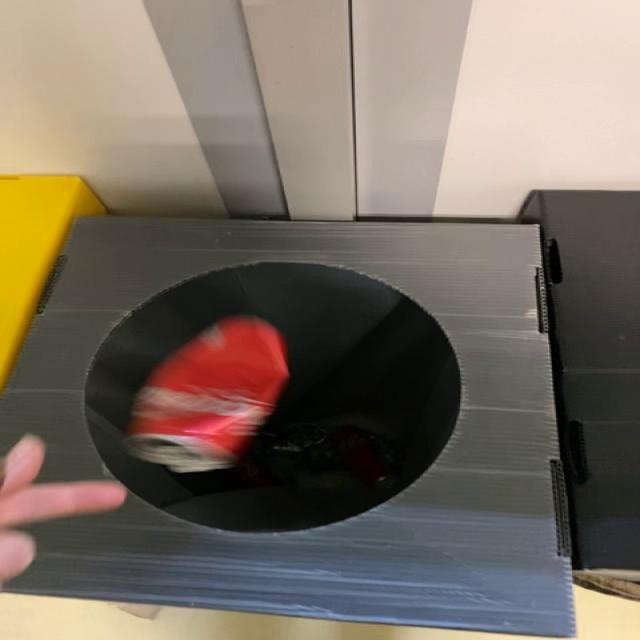bin: (3, 218, 573, 636)
metal: (125, 317, 289, 474)
